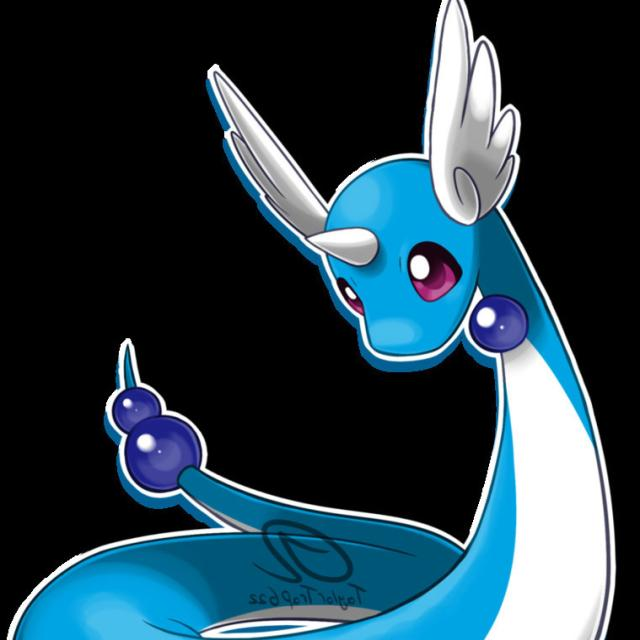Dragonair: (110, 5, 597, 640)
